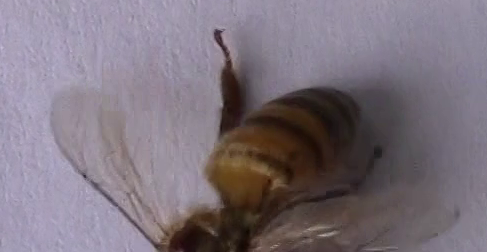Varroa destructor: (169, 233, 196, 252)
